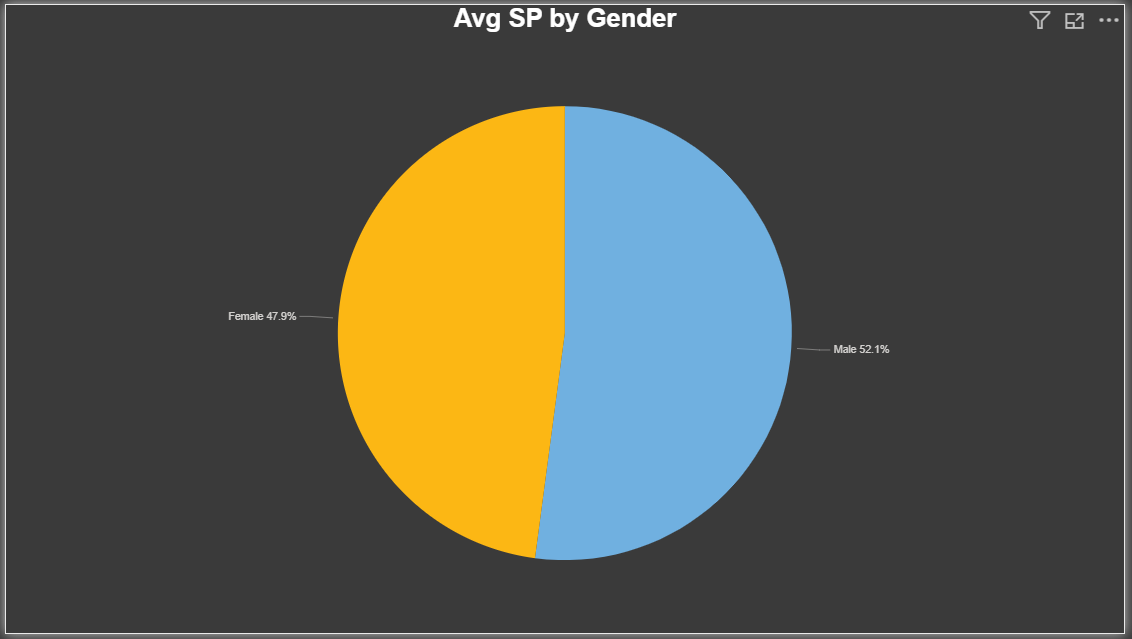

This screenshot's page, from the dashboard's own definition file:
{"tool":"powerbi","page":{"name":"Avg selling Price by Gender","canvas":[1280,720],"ordinal":1},"visuals":[{"type":"pieChart","fields":{"Y":["FactSales.Avg SP"],"Category":["DimCustomer.Gender"]},"box":[0,0,1280,720],"z":0}]}

Visuals, with their boxes in screenshot pixels (x1, y1, x2, y2), scaled from the page's 1280x720 canvas onto the 1132x639 screenshot:
pieChart - FactSales.Avg SP x DimCustomer.Gender: 0:0:1131:638
